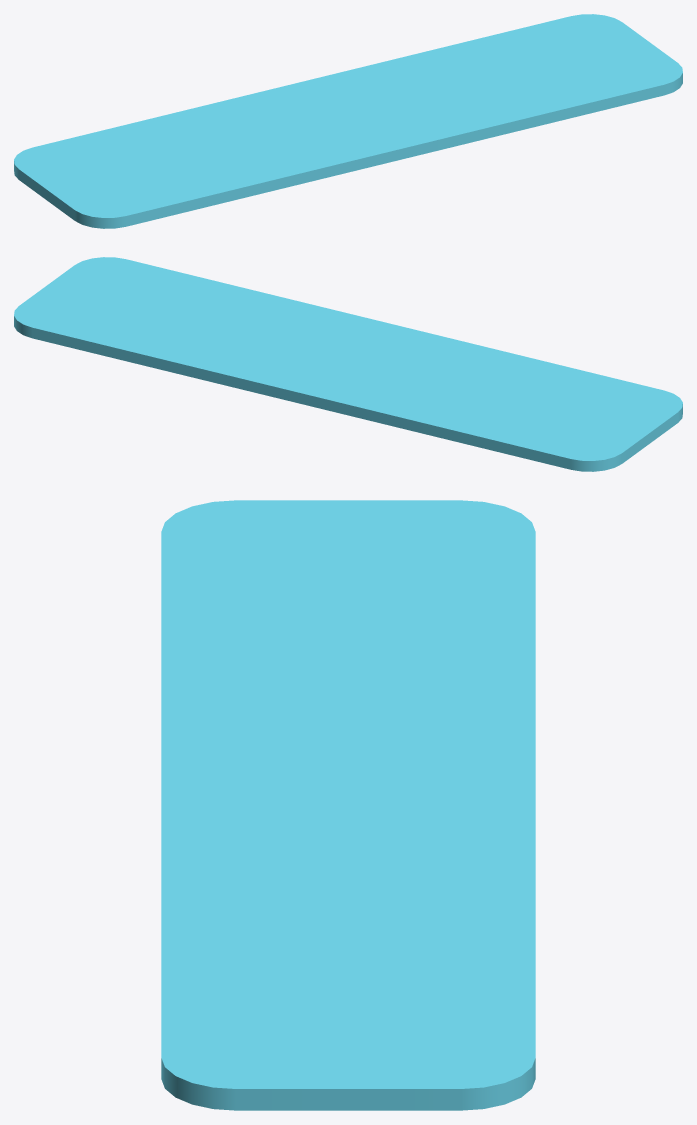
Rendered from Modulo2-6.fbx.
3 views of the same model, one above another, from view 1: azimuth 30°, elevation 25°; view 2: azimuth 150°, elevation 25°; view 3: azimuth 270°, elevation 25° (orthographic). The views are drawn at different scales.
Parts seen in each view (by area): view 1: pCube13; view 2: pCube13; view 3: pCube13.
Boxes of the visible parts, <box> form: pCube13: <box>14,14,682,228</box>; pCube13: <box>14,257,682,471</box>; pCube13: <box>161,500,535,1110</box>.
Bounding box in the file's own units: 6.77 × 0.1155 × 1.82.
